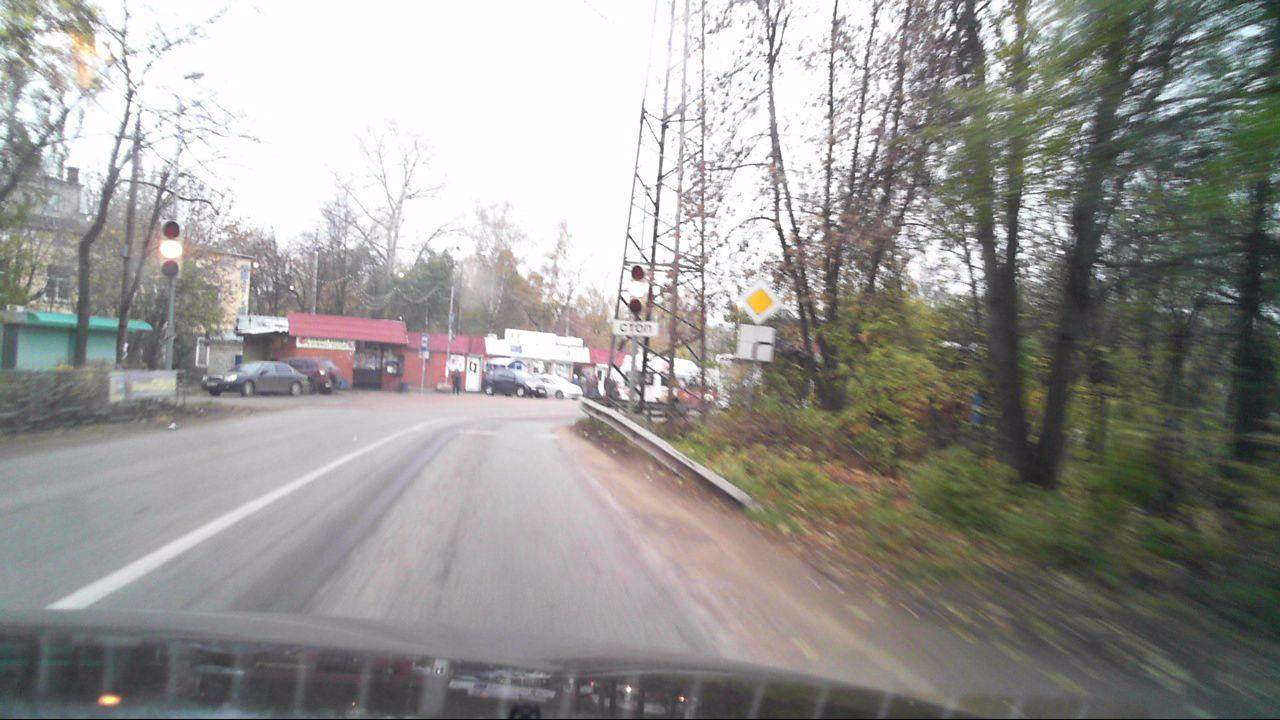2_1: (738, 278, 780, 322)
5_16: (420, 333, 430, 350)
6_16: (612, 320, 657, 336)
8_13: (737, 323, 776, 362)
